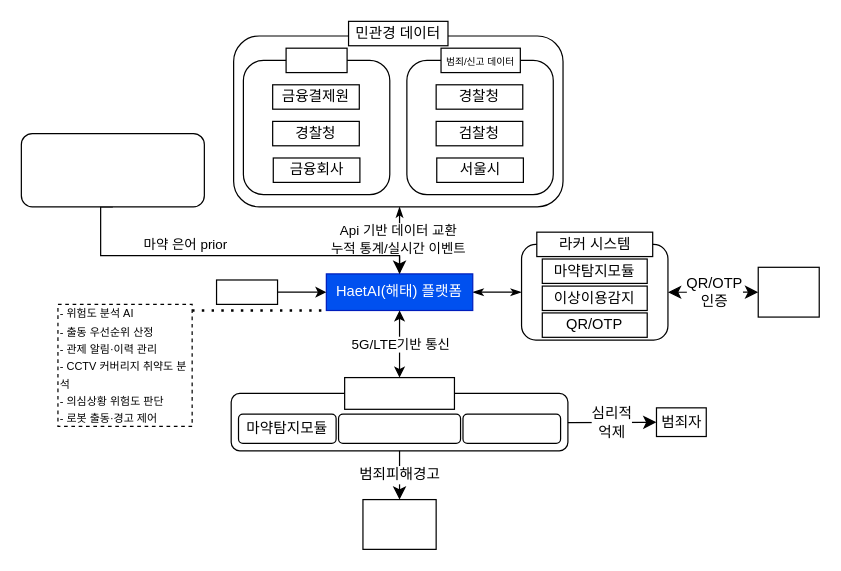
Some shapes in this 841 by 571 pixel diagram are drawn without their labels. Each missing label, with the centre of its shape:
"ASAP" belongs at point (316, 60).
"CCTV" belongs at point (246, 291).
"SNS 마약 언어 데이터 은어·탐지·지역/시간 빈도 NLP keyword model" belongs at point (112, 169).
"광학센서(카메라)" belongs at point (399, 428).
"사용자" belongs at point (788, 291).
"시민" belongs at point (399, 523).
"음성긴급호출" belongs at point (511, 428).
"해치(로봇)" belongs at point (398, 392).
